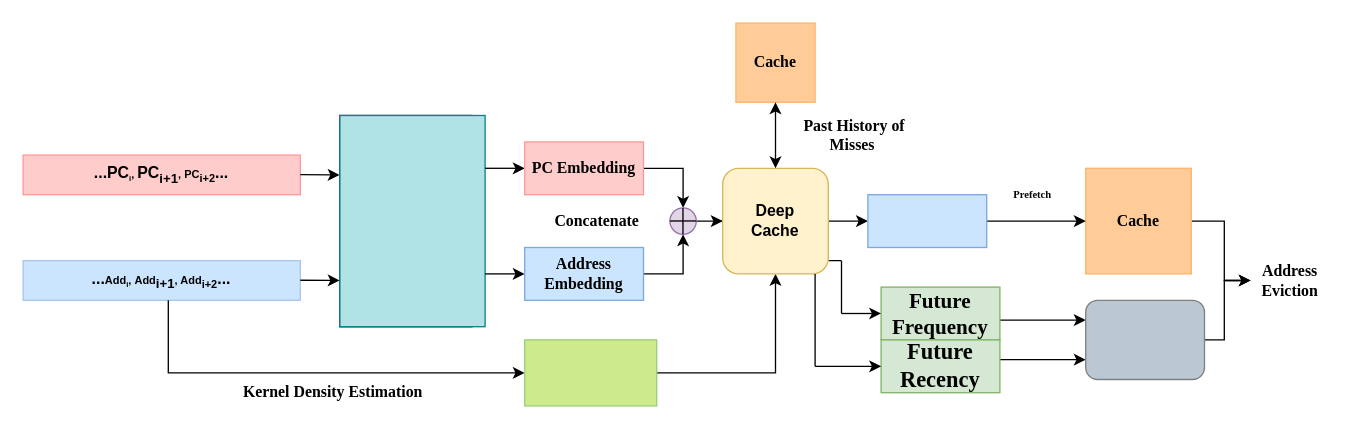
Image size: 1353x432. Some labels were removed from this diagram. The shapes that lost their labels are listed below. From the top down, each one's centre as x and y in pixels, then its label:
At (x=412, y=220): "W2Vec Based Byte Embeddings".
At (x=927, y=220): "Prefetching Candidates".
At (x=1144, y=339): "LeCaR".
At (x=590, y=372): "Distribution Vector".
